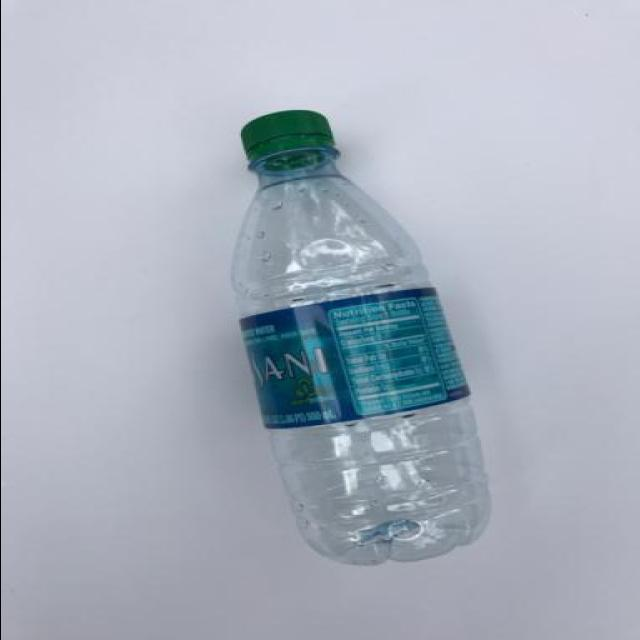litter: (226, 108, 496, 568)
